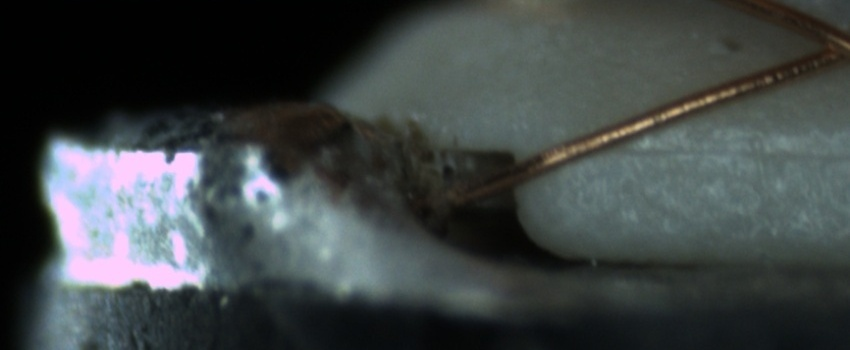CL: (791, 13, 850, 75)
DL: (608, 114, 846, 185)
